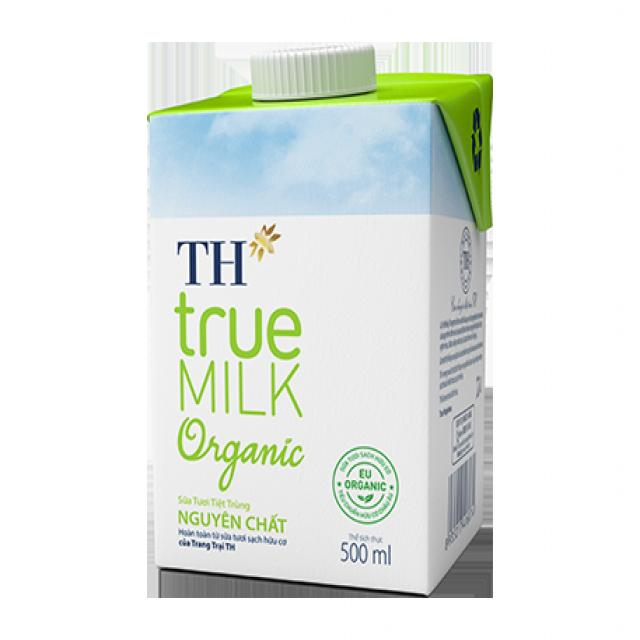non_white_jug: (128, 19, 506, 614)
